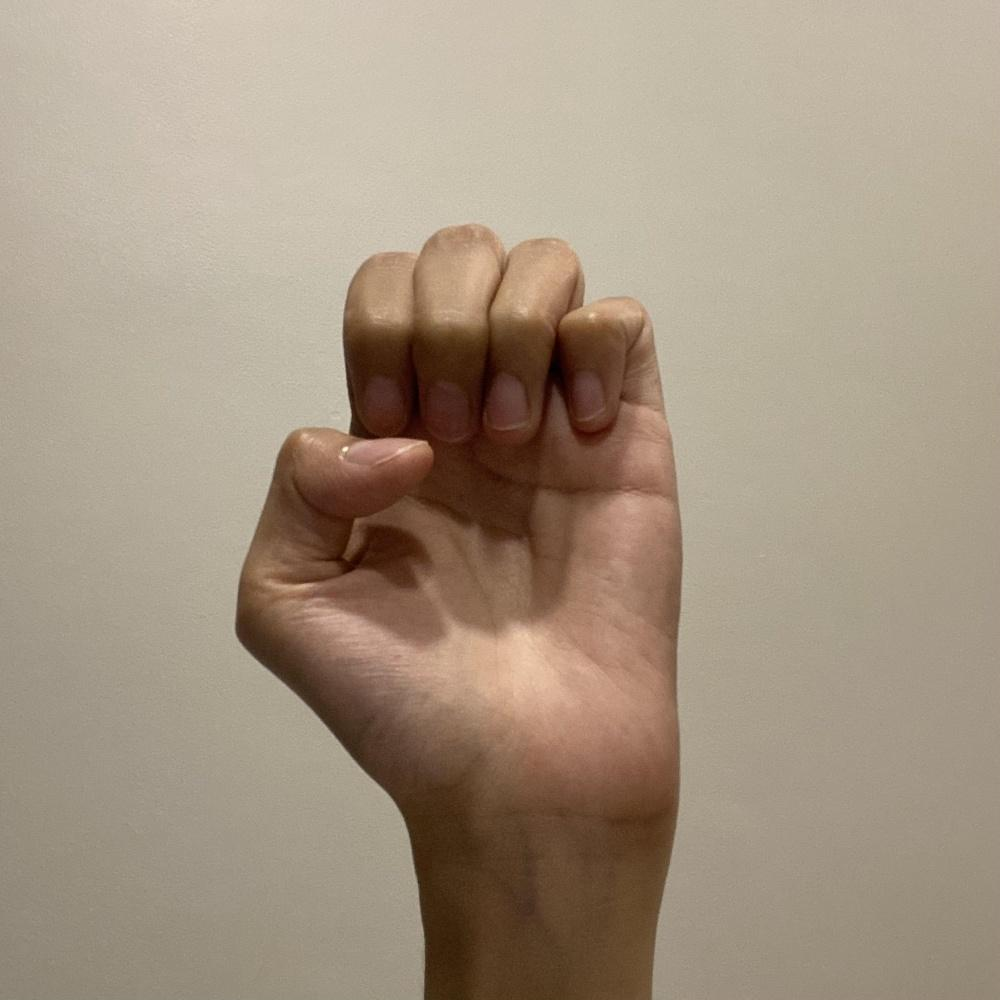e: (223, 220, 691, 834)
